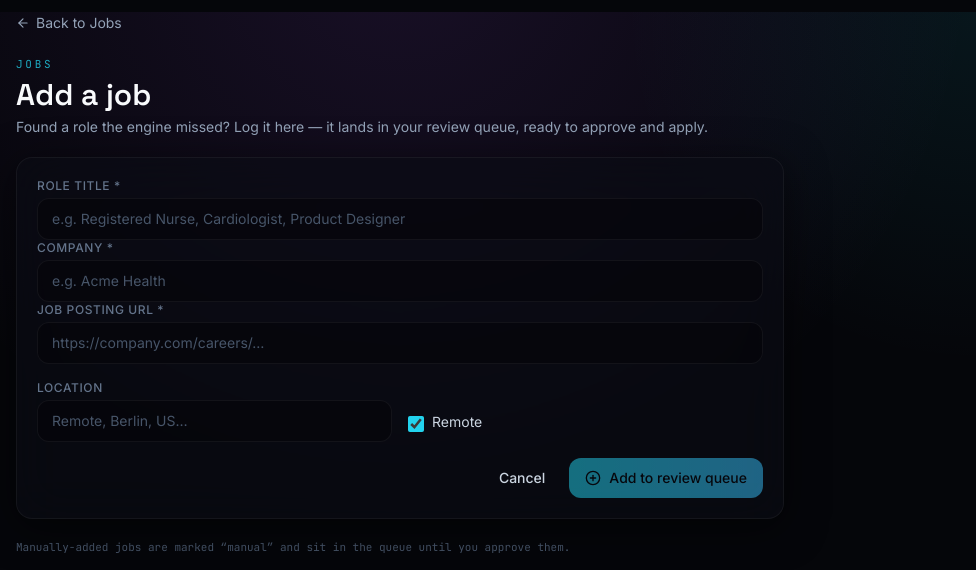
Test case: JobNewPage › keeps submit disabled until the required fields are filled
Expected: the button "Add to review queue" is disabled, [569,458,763,498]
Step 1. Type "Cardiologist" into the field labelled "Role title *" → (400, 218), box [37,198,763,240]
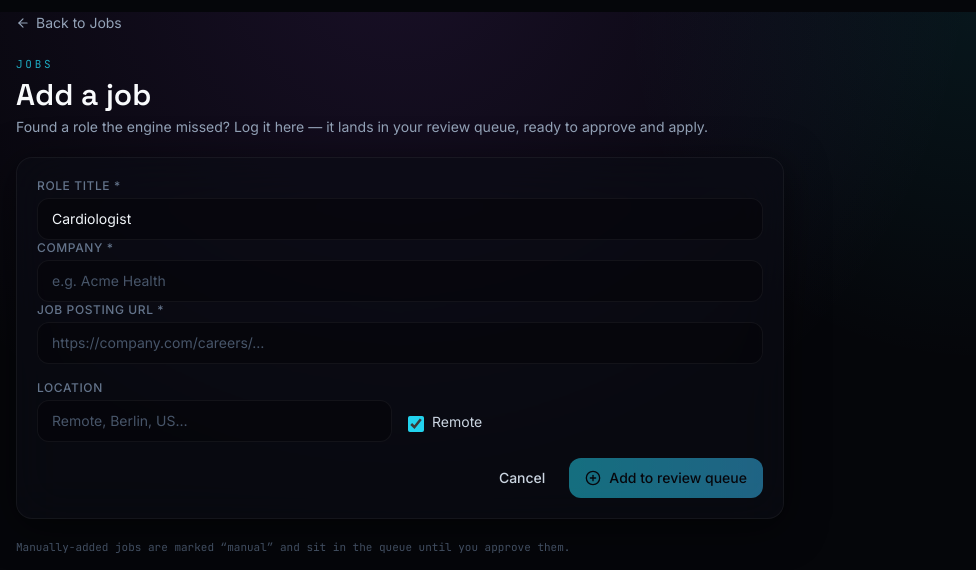
Step 2. Type "Acme Health" into the field labelled "Company *" → (400, 280), box [37,260,763,302]
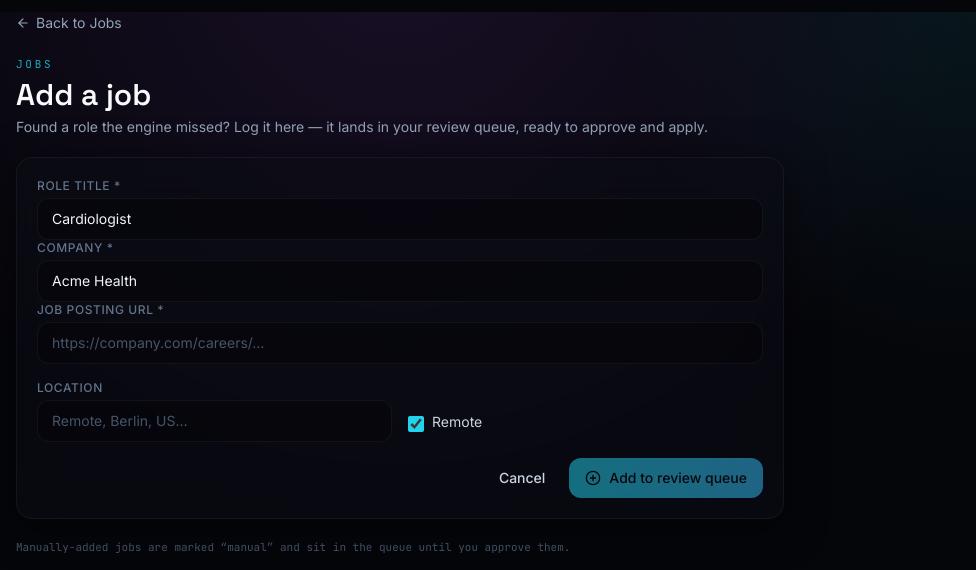
Expected: the button "Add to review queue" is disabled, [569,458,763,498]
Step 3. Type "https://acme.health/careers/cardio" into the field labelled "Job posting URL *" → (400, 342), box [37,322,763,364]
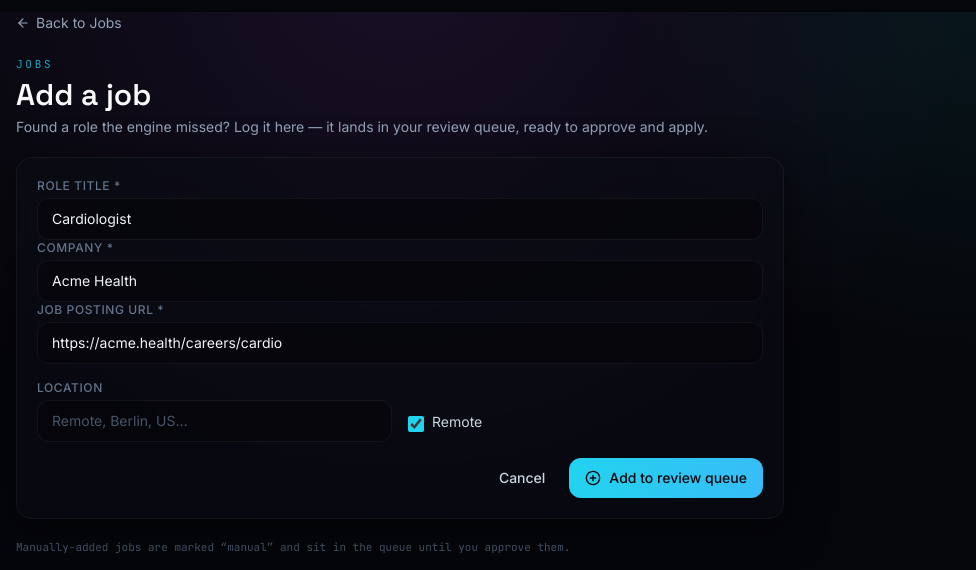
Now the button "Add to review queue" is enabled, box [569,458,763,498]
